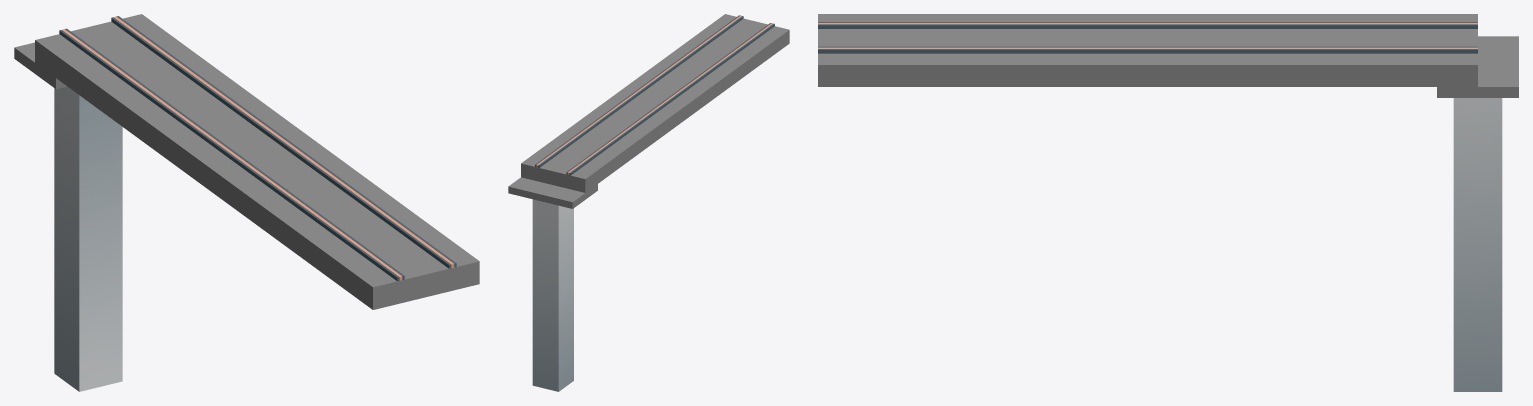
The model's file is Track_Tile.fbx.
The picture shows the model from 3 angles, left to right: view 1: azimuth 30°, elevation 25°; view 2: azimuth 150°, elevation 25°; view 3: azimuth 270°, elevation 25°; orthographic projection. The views are drawn at different scales.
Parts seen in each view (by area): view 1: Track_Tile; view 2: Track_Tile; view 3: Track_Tile.
Boxes of the visible parts, left/top/right/bottom form: Track_Tile: left=14, top=14, right=479, bottom=391; Track_Tile: left=508, top=14, right=789, bottom=391; Track_Tile: left=818, top=14, right=1518, bottom=391.
Size of the model in its own units: 0.6445 by 2.04 by 3.75.
